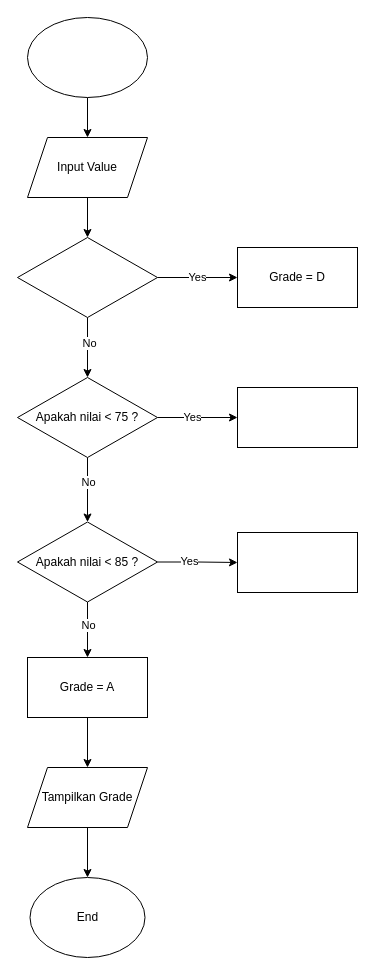
This 375x975 diagram has some shape labels left out. The centre of each missing label's shape, as x and y in pixels:
"Apakah nilai < 60 ?" goes at (87,277).
"Grade = B" goes at (297,562).
"Grade = C" goes at (297,417).
"Start" goes at (87,57).
